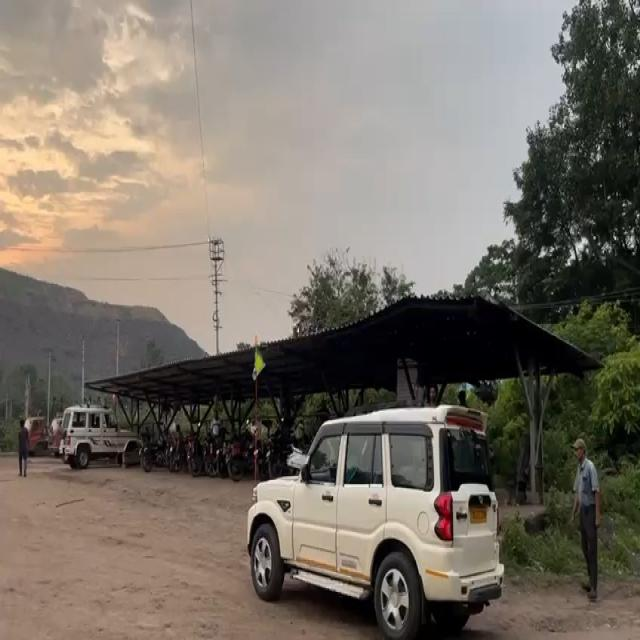light_vehicle: (248, 402, 505, 632)
